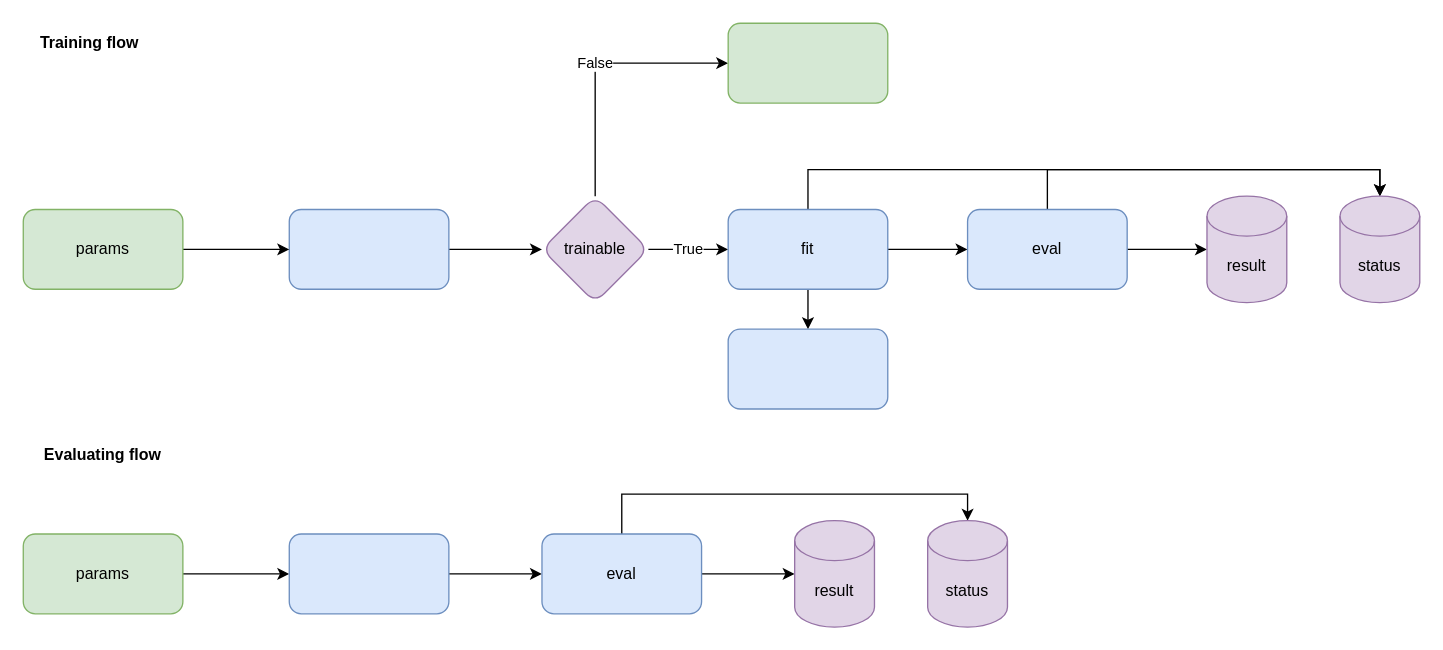
The diagram is 1443 pixels wide and 650 high, and some of its shapes have lost their labels. The shapes that lost their labels are listed below. From the top down, each one's box as (x1, y1, x2, y2) in pixels, then its label:
(727, 22, 888, 103): raise error
(288, 208, 449, 289): model generator
(727, 328, 888, 409): save model
(288, 533, 449, 614): load model
